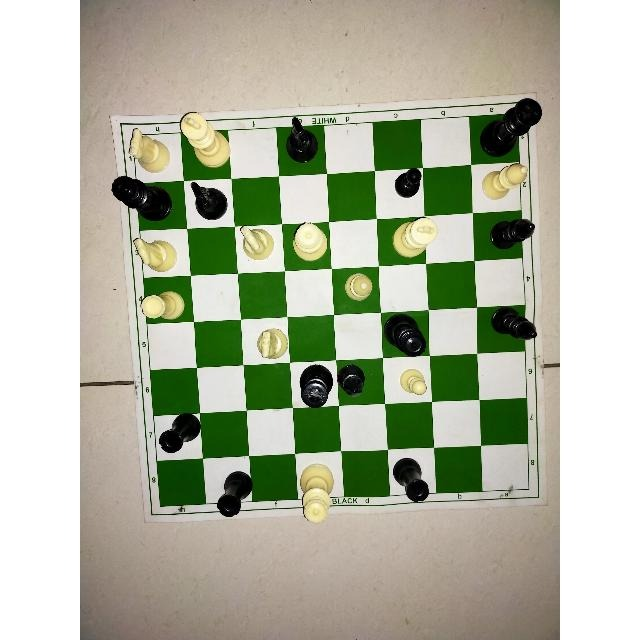black-bishop: (488, 304, 540, 346), (485, 212, 536, 250), (333, 361, 370, 399)
black-king: (474, 96, 543, 156), (297, 361, 335, 411)
black-knight: (186, 177, 230, 222), (283, 115, 321, 164)
black-pawn: (391, 165, 422, 201)
black-queen: (109, 174, 175, 224), (383, 313, 429, 359)
black-rook: (388, 453, 437, 503), (214, 469, 258, 518), (154, 409, 202, 453)
white-bishop: (475, 162, 530, 202), (341, 269, 378, 307)
white-king: (177, 109, 232, 172), (390, 214, 440, 259)
white-knight: (126, 124, 172, 172), (236, 222, 280, 265), (131, 235, 177, 276), (256, 327, 290, 367)
white-pawn: (397, 363, 431, 401)
white-queen: (298, 461, 336, 525), (288, 220, 330, 262)
white-rook: (139, 289, 189, 325)
